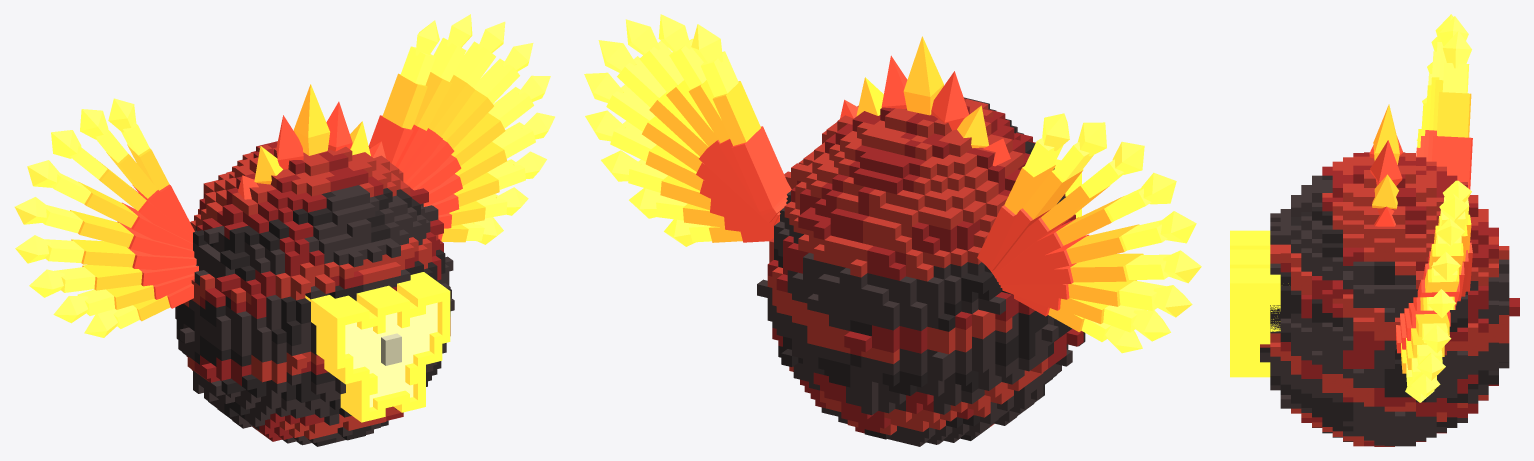
File: PyrocrowBossEgg.fbx
The picture shows the model from 3 angles, left to right: view 1: azimuth 30°, elevation 25°; view 2: azimuth 150°, elevation 25°; view 3: azimuth 270°, elevation 25°; orthographic projection. The views are drawn at different scales.
Parts seen in each view (by area): view 1: Pyrocrow_Body__Pyrocrow_Charcoal, Pyrocrow_Body__Pyrocrow_Red, Pyrocrow_Body__Pyrocrow_RedDark, Pyrocrow_Wing_R__Pyrocrow_FeatherYellow, Pyrocrow_Wing_L__Pyrocrow_FeatherYellow, Pyrocrow_Body__Pyrocrow_CharcoalDark, Pyrocrow_Emblem__Pyrocrow_EmblemOutline, Pyrocrow_Wing_R__Pyrocrow_FeatherOrange, Pyrocrow_Wing_L__Pyrocrow_FeatherOrange, Pyrocrow_Wing_L__Pyrocrow_FeatherRed, Pyrocrow_Wing_R__Pyrocrow_FeatherRed, Pyrocrow_Emblem__Pyrocrow_Emblem (+3 smaller); view 2: Pyrocrow_Body__Pyrocrow_Red, Pyrocrow_Body__Pyrocrow_Charcoal, Pyrocrow_Body__Pyrocrow_RedDark, Pyrocrow_Wing_R__Pyrocrow_FeatherYellow, Pyrocrow_Wing_L__Pyrocrow_FeatherYellow, Pyrocrow_Wing_L__Pyrocrow_FeatherOrange, Pyrocrow_Wing_R__Pyrocrow_FeatherOrange, Pyrocrow_Wing_R__Pyrocrow_FeatherRed, Pyrocrow_Wing_L__Pyrocrow_FeatherRed, Pyrocrow_Body__Pyrocrow_CharcoalDark, Pyrocrow_Crest__Pyrocrow_FeatherOrange, Pyrocrow_Crest__Pyrocrow_FeatherRed; view 3: Pyrocrow_Body__Pyrocrow_Charcoal, Pyrocrow_Body__Pyrocrow_Red, Pyrocrow_Body__Pyrocrow_RedDark, Pyrocrow_Body__Pyrocrow_CharcoalDark, Pyrocrow_Emblem__Pyrocrow_EmblemOutline, Pyrocrow_Wing_R__Pyrocrow_FeatherYellow, Pyrocrow_Wing_L__Pyrocrow_FeatherYellow, Pyrocrow_Wing_L__Pyrocrow_FeatherOrange, Pyrocrow_Wing_R__Pyrocrow_FeatherOrange, Pyrocrow_Wing_L__Pyrocrow_FeatherRed, Pyrocrow_Wing_R__Pyrocrow_FeatherRed, Pyrocrow_Crest__Pyrocrow_FeatherOrange (+1 smaller).
Boxes of the visible parts, x1,y1,x2,y2 form: Pyrocrow_Body__Pyrocrow_Charcoal: [175, 185, 454, 445]; Pyrocrow_Body__Pyrocrow_Red: [184, 142, 438, 439]; Pyrocrow_Body__Pyrocrow_RedDark: [194, 141, 450, 441]; Pyrocrow_Wing_R__Pyrocrow_FeatherYellow: [400, 14, 554, 244]; Pyrocrow_Wing_L__Pyrocrow_FeatherYellow: [14, 98, 149, 337]; Pyrocrow_Body__Pyrocrow_CharcoalDark: [176, 188, 445, 446]; Pyrocrow_Emblem__Pyrocrow_EmblemOutline: [305, 272, 450, 422]; Pyrocrow_Wing_R__Pyrocrow_FeatherOrange: [382, 72, 506, 242]; Pyrocrow_Wing_L__Pyrocrow_FeatherOrange: [70, 144, 170, 321]; Pyrocrow_Wing_L__Pyrocrow_FeatherRed: [117, 184, 198, 308]; Pyrocrow_Wing_R__Pyrocrow_FeatherRed: [369, 115, 462, 240]; Pyrocrow_Emblem__Pyrocrow_Emblem: [345, 302, 437, 407]; Pyrocrow_Body__Pyrocrow_Red: [767, 99, 1069, 435]; Pyrocrow_Body__Pyrocrow_Charcoal: [757, 97, 1072, 446]; Pyrocrow_Body__Pyrocrow_RedDark: [767, 98, 1083, 433]; Pyrocrow_Wing_R__Pyrocrow_FeatherYellow: [584, 14, 738, 246]; Pyrocrow_Wing_L__Pyrocrow_FeatherYellow: [1025, 113, 1201, 353]; Pyrocrow_Wing_L__Pyrocrow_FeatherOrange: [1004, 164, 1143, 331]; Pyrocrow_Wing_R__Pyrocrow_FeatherOrange: [642, 80, 760, 242]; Pyrocrow_Wing_R__Pyrocrow_FeatherRed: [696, 126, 791, 242]; Pyrocrow_Wing_L__Pyrocrow_FeatherRed: [977, 205, 1089, 316]; Pyrocrow_Body__Pyrocrow_CharcoalDark: [774, 119, 1085, 440]; Pyrocrow_Crest__Pyrocrow_FeatherOrange: [856, 36, 988, 148]; Pyrocrow_Crest__Pyrocrow_FeatherRed: [840, 55, 1010, 166]; Pyrocrow_Body__Pyrocrow_Charcoal: [1260, 175, 1509, 446]; Pyrocrow_Body__Pyrocrow_Red: [1260, 152, 1509, 446]; Pyrocrow_Body__Pyrocrow_RedDark: [1280, 152, 1519, 446]; Pyrocrow_Body__Pyrocrow_CharcoalDark: [1260, 175, 1508, 437]; Pyrocrow_Emblem__Pyrocrow_EmblemOutline: [1230, 230, 1288, 377]; Pyrocrow_Wing_R__Pyrocrow_FeatherYellow: [1405, 180, 1471, 402]; Pyrocrow_Wing_L__Pyrocrow_FeatherYellow: [1416, 14, 1471, 141]; Pyrocrow_Wing_L__Pyrocrow_FeatherOrange: [1417, 77, 1471, 147]; Pyrocrow_Wing_R__Pyrocrow_FeatherOrange: [1401, 214, 1471, 373]; Pyrocrow_Wing_L__Pyrocrow_FeatherRed: [1416, 130, 1472, 189]; Pyrocrow_Wing_R__Pyrocrow_FeatherRed: [1396, 242, 1472, 353]; Pyrocrow_Crest__Pyrocrow_FeatherOrange: [1372, 104, 1399, 209].
Bounding box in the file's own units: 402 × 242 × 195.
